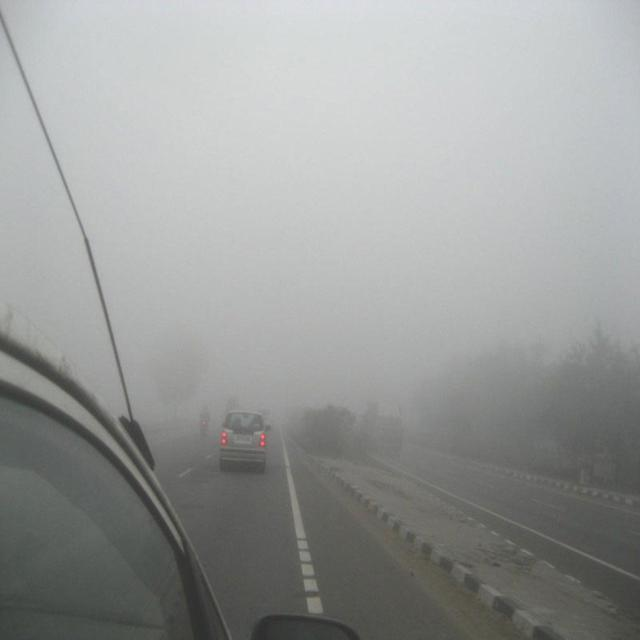Car: (0, 312, 350, 640), (218, 408, 267, 469)
